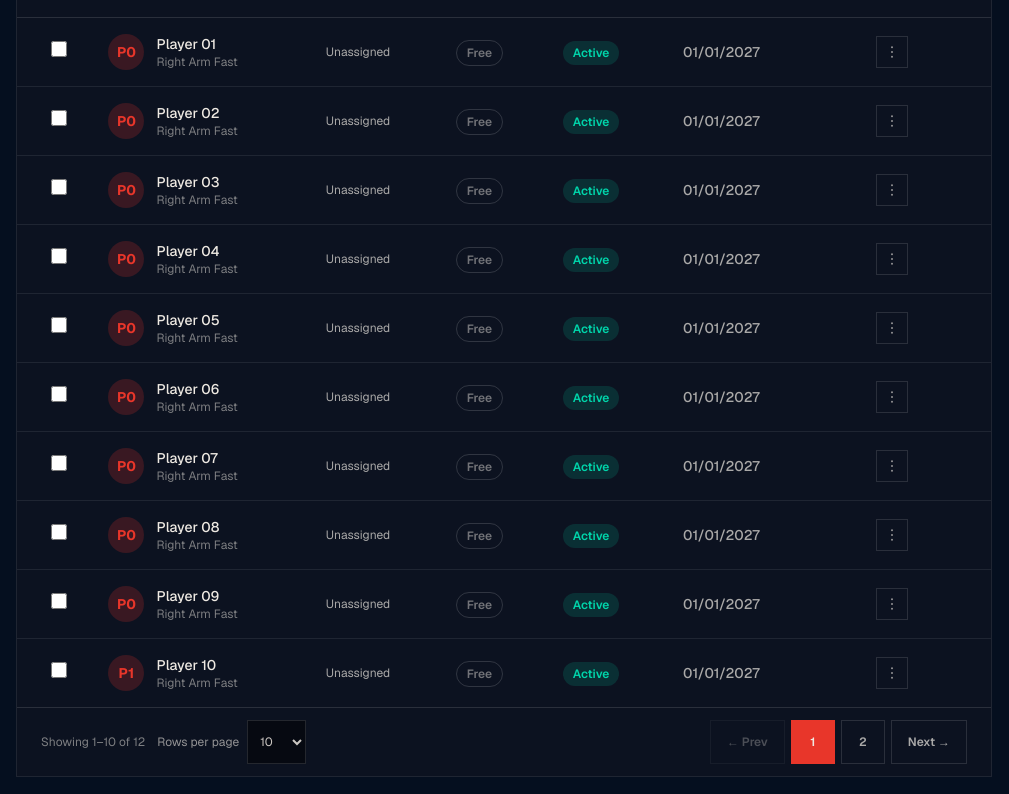
Test case: PlayersClient › searching while on page 2 snaps back to page 1 instead of stranding an empty page
(page scrolled)
Expected: the text "Player 01" is shown, [156,35,216,53]
Click the button "Next →": (929, 742) [891,720,967,764]
(page scrolled)
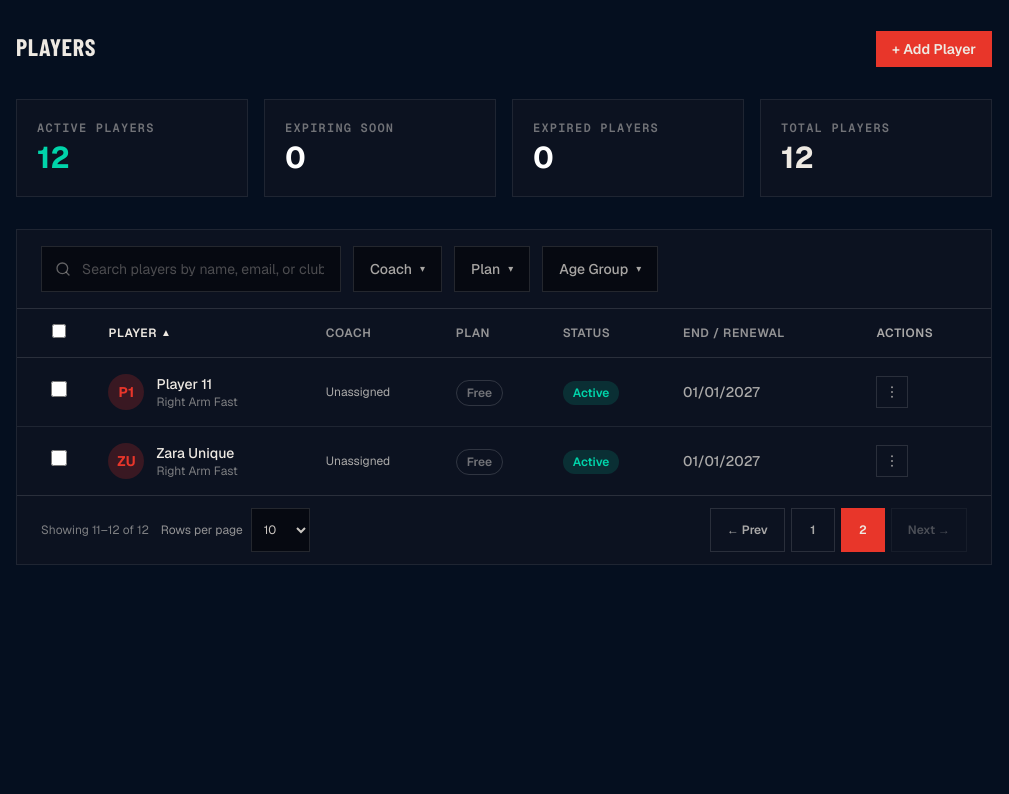
Result: the text "Zara Unique" is shown at [156,443,238,463]
In the field with placeholder "Search players by name, email, or club…": (191, 269) [41,246,341,292], type "Zara"
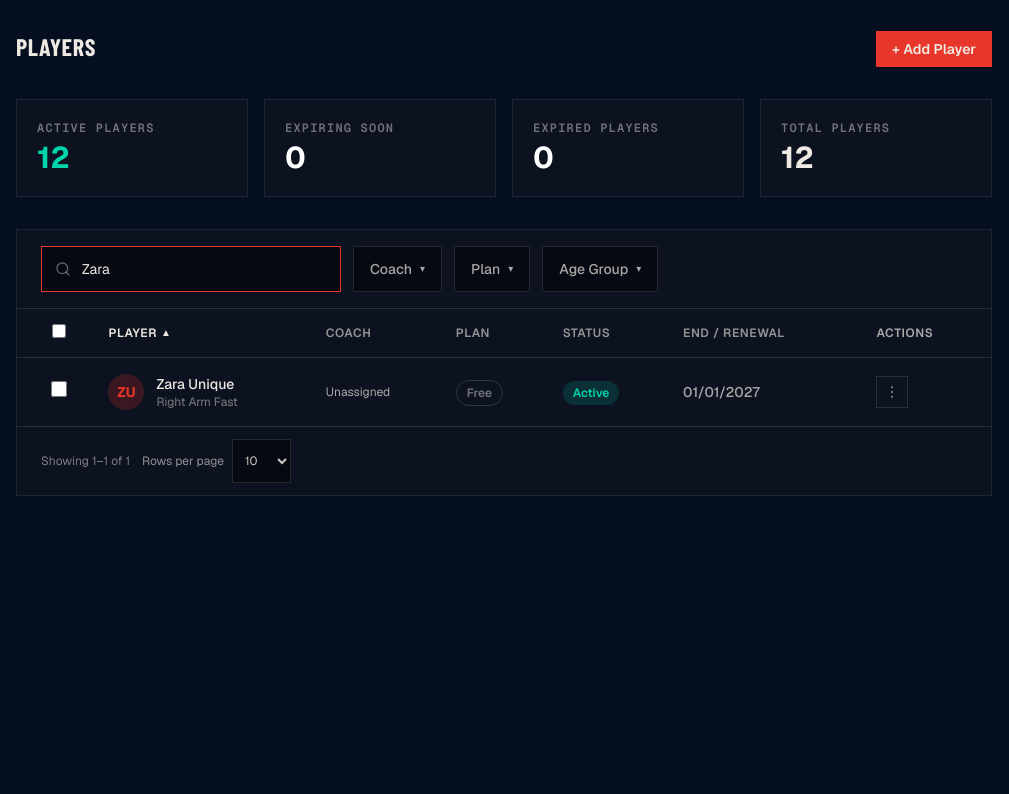
Result: the text "Zara Unique" is shown at [156,374,238,394]
Result: the text "Showing 1–1 of 1" is shown at [41,453,130,469]
